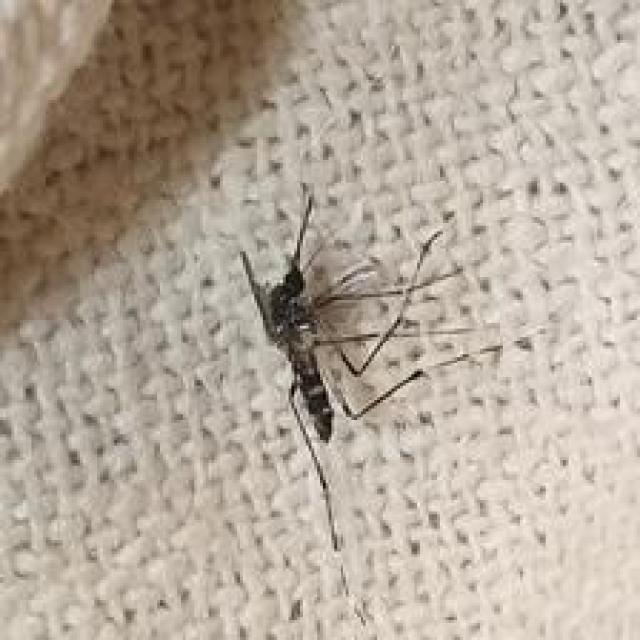Aedes albopictus: (236, 181, 504, 630)
